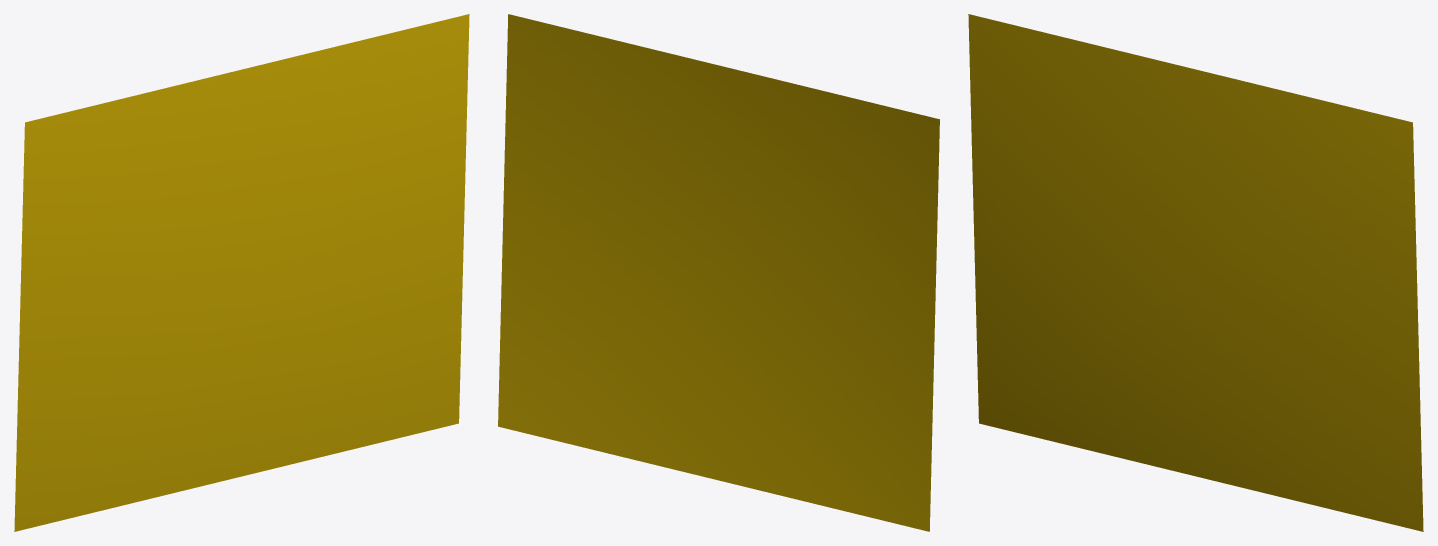
File: SM_Leaf_03.fbx
The picture shows the model from 3 angles, left to right: view 1: azimuth 30°, elevation 25°; view 2: azimuth 150°, elevation 25°; view 3: azimuth 330°, elevation 25°; orthographic projection. The views are drawn at different scales.
Visible parts, largest first — view 1: SM_Leaf_03; view 2: SM_Leaf_03; view 3: SM_Leaf_03.
Boxes of the visible parts, x1,y1,x2,y2 form: SM_Leaf_03: [14, 14, 469, 531]; SM_Leaf_03: [498, 14, 939, 531]; SM_Leaf_03: [968, 14, 1423, 531].
Bounding box in the file's own units: 45.42 × 40.73 × 4.5.
